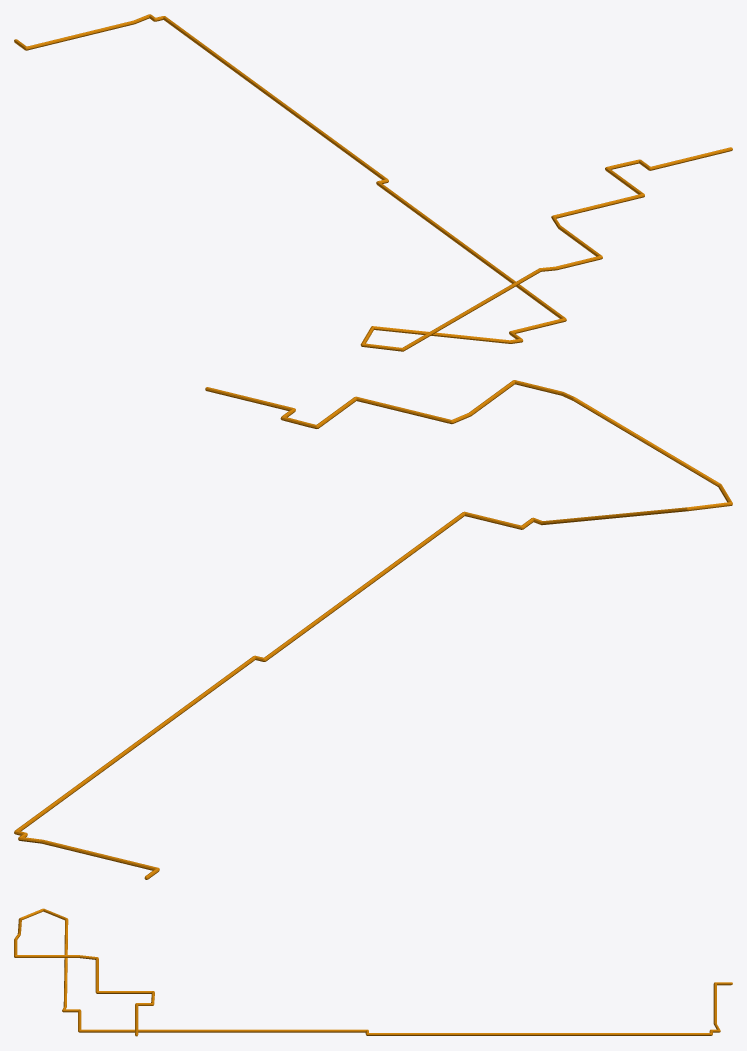
3 views of the same model, one above another, from view 1: azimuth 30°, elevation 25°; view 2: azimuth 150°, elevation 25°; view 3: azimuth 270°, elevation 25° (orthographic). The views are drawn at different scales.
Bounding box in the file's own units: 2406 × 520 × 4496.
